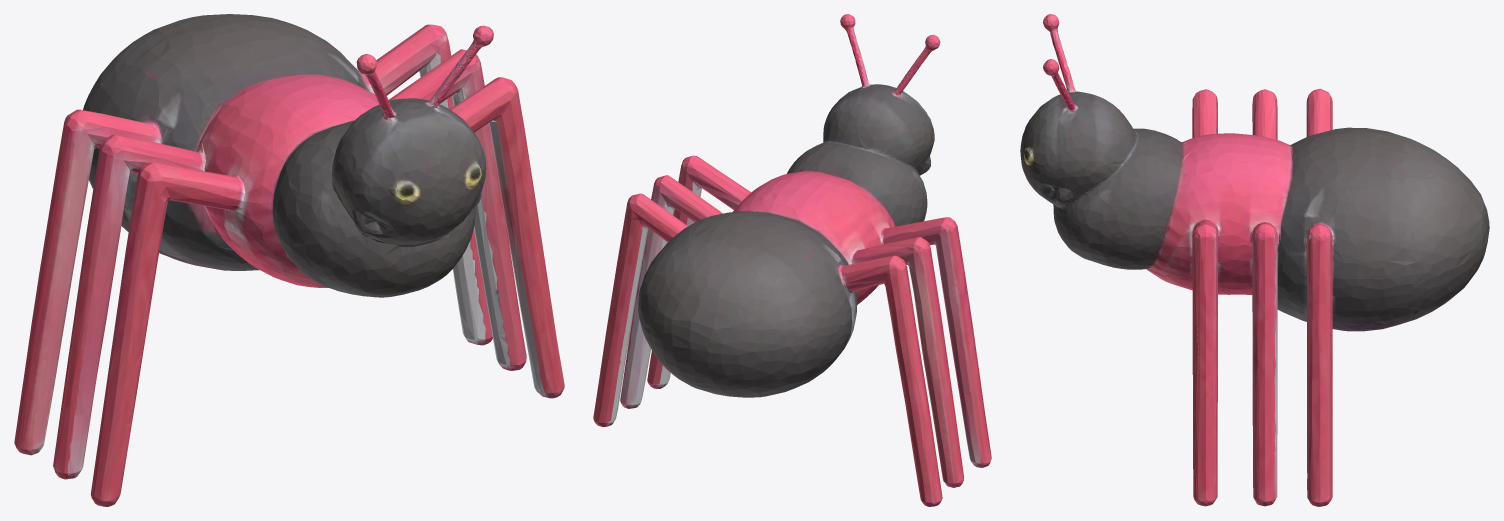
The model's file is creature-086.lod.glb.
3 renders of one model, left to right at view 1: azimuth 30°, elevation 25°; view 2: azimuth 150°, elevation 25°; view 3: azimuth 270°, elevation 25°, orthographic. The views are drawn at different scales.
Parts seen in each view (by area): view 1: tmp1s69krpw.ply; view 2: tmp1s69krpw.ply; view 3: tmp1s69krpw.ply.
Part boxes in pixels (x1=…): tmp1s69krpw.ply: x1=14, y1=14, x2=564, y2=506; tmp1s69krpw.ply: x1=593, y1=14, x2=991, y2=506; tmp1s69krpw.ply: x1=1020, y1=14, x2=1489, y2=506.
Size of the model in its own units: 1.39 by 1.34 by 1.5.
Materials: 1 (1 with a texture image).
